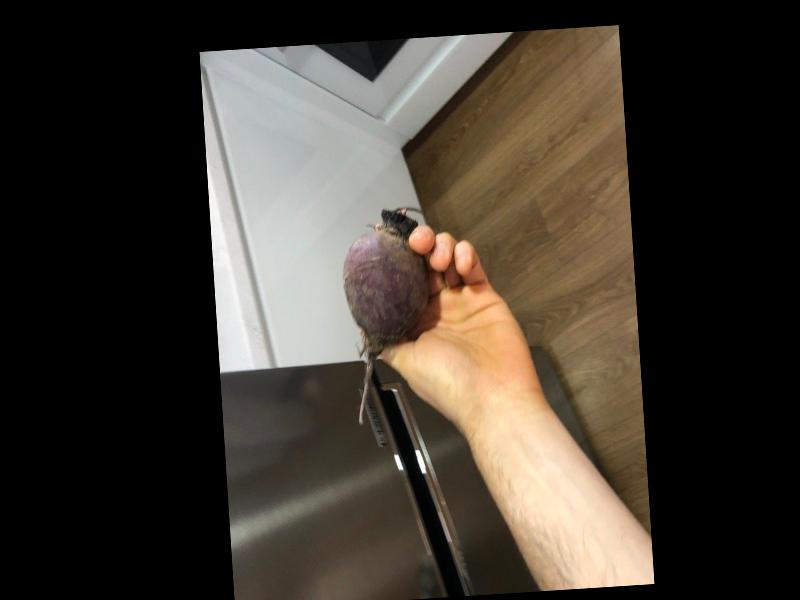Beet: (338, 204, 437, 424)
